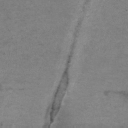finishing roll printing: (48, 16, 84, 126)
